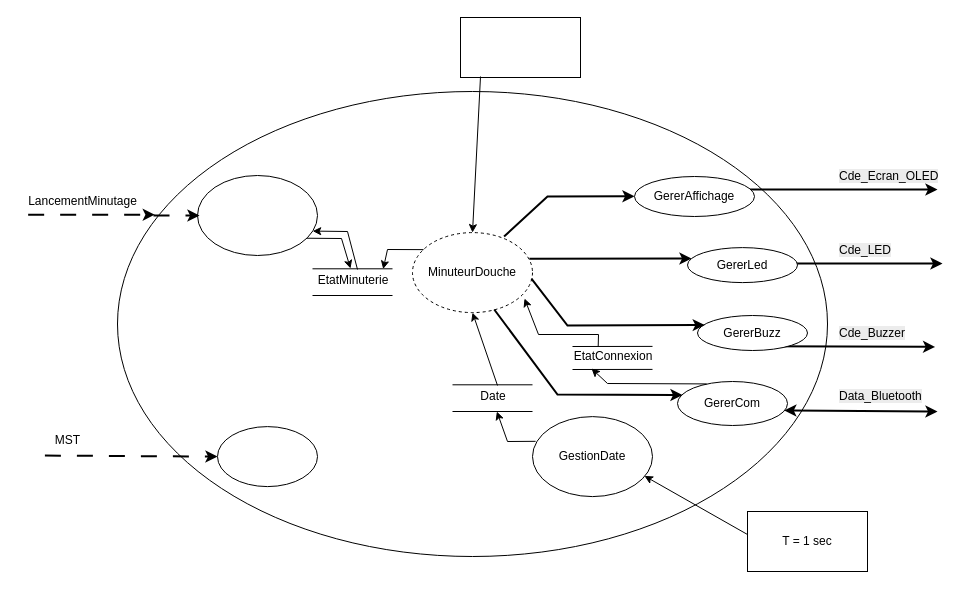
This 974x589 diagram has some shape labels left out. Here are the shapes that lost their labels. From the top down, the centre of each, then its label:
At point (520, 47): "T = 100 ms".
At point (257, 215): "GestionAppuis".
At point (267, 456): "Initialiser".
